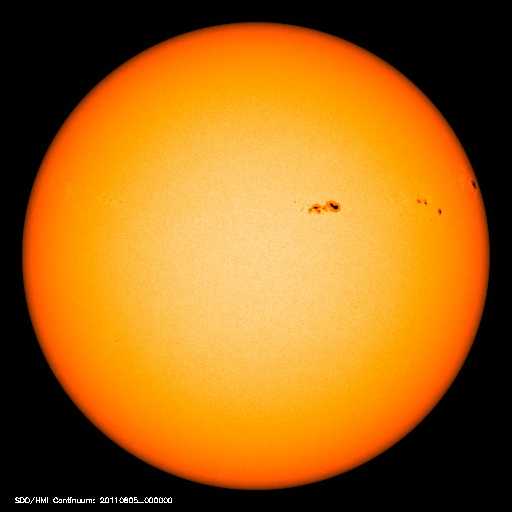sunspot: (286, 190, 348, 223), (406, 189, 447, 219), (458, 168, 486, 202)
